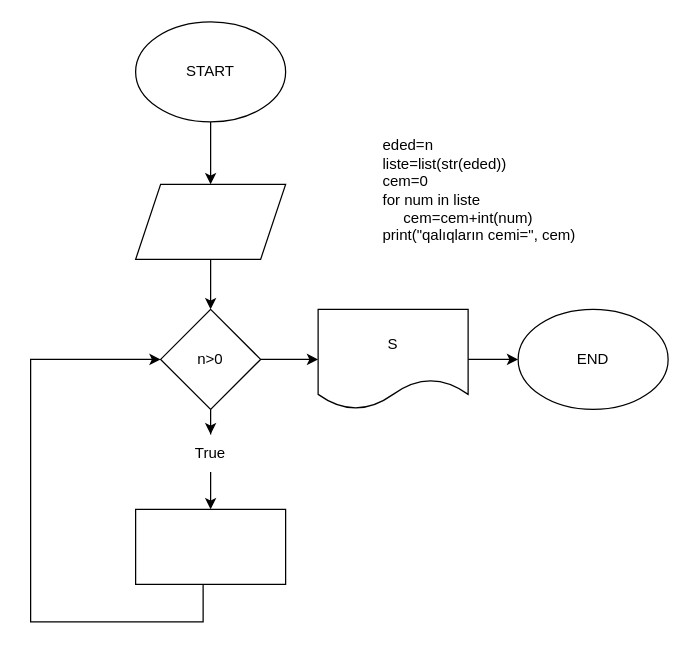
Image size: 690x654. Some labels were removed from this diagram. Here are the shapes that lost their labels. From the top down, the centre of each, then its label:
[210,221]: S=0 n,z
[210,546]: z=n%10 S=S+z n=(n-z)/10
